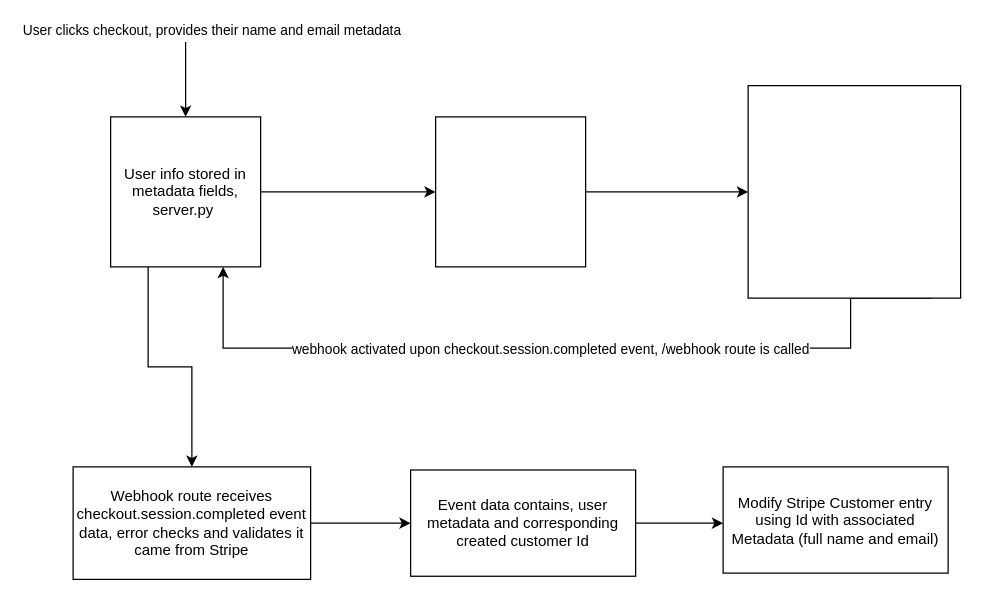
The diagram is 983 pixels wide and 601 high, and some of its shapes have lost their labels. The centre of each missing label's shape, as x and y in pixels:
"/create-session is called, redirects to Stripe Checkout" belongs at point (510, 191).
"Checkout successfully completed, Stripe posts checkout.session.completed event" belongs at point (854, 191).
